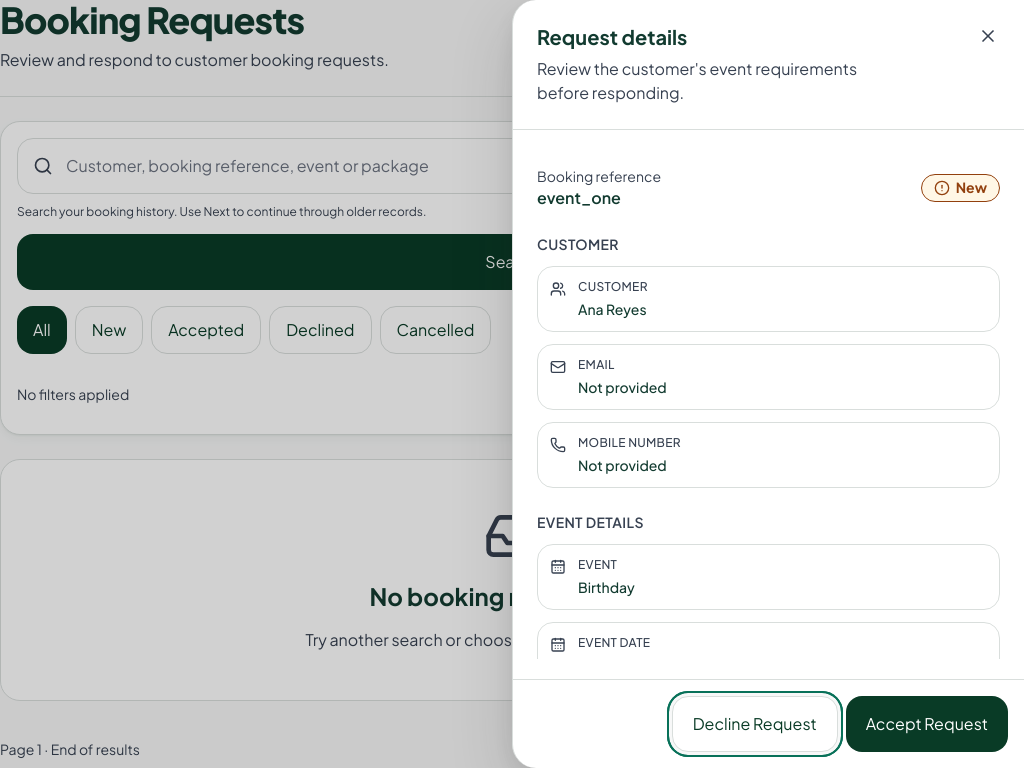
Scenario: provider request acceptance copy › shows frozen eligibility in the drawer and acceptance confirmation: pending short notice
Click the button "Accept Request" at (927,724), box top-left (846, 696), bottom-right (1008, 752)
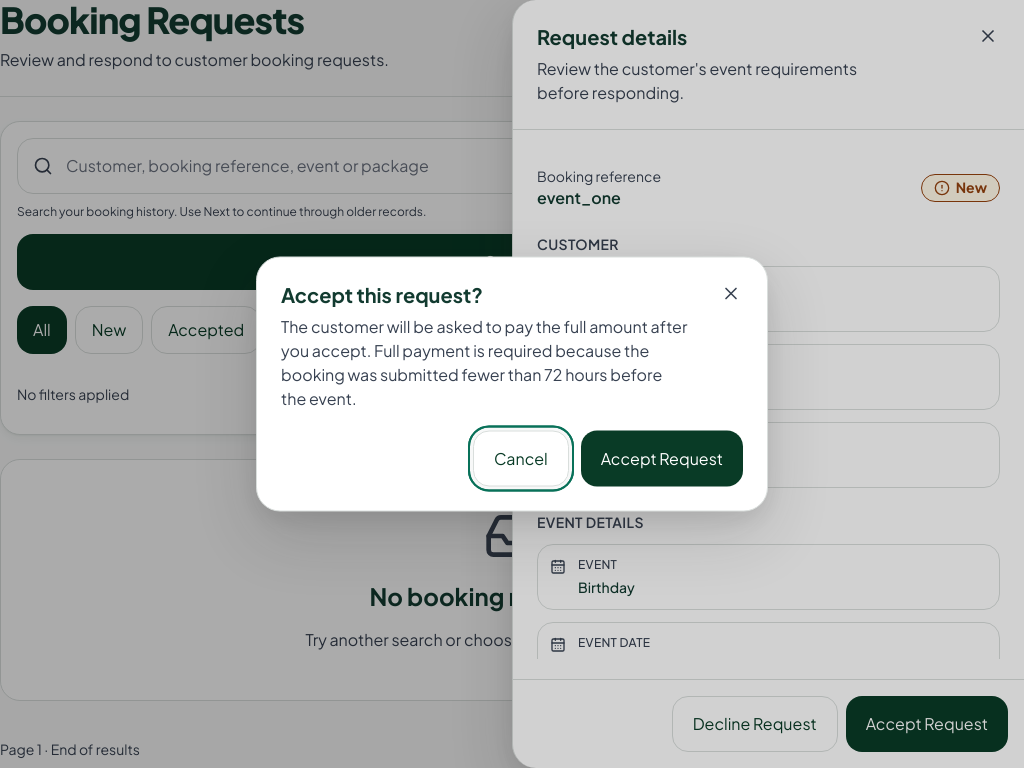
Now the dialog "Accept this request?" shows "full amount", box top-left (281, 316), bottom-right (687, 408)
Now the dialog "Accept this request?" shows "submitted fewer than 72 hours", box top-left (281, 316), bottom-right (687, 408)
